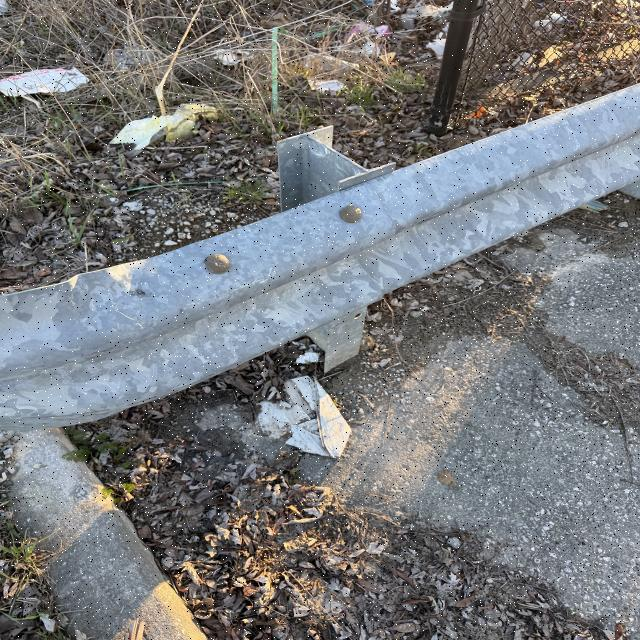Guard rail: (33, 111, 640, 389)
